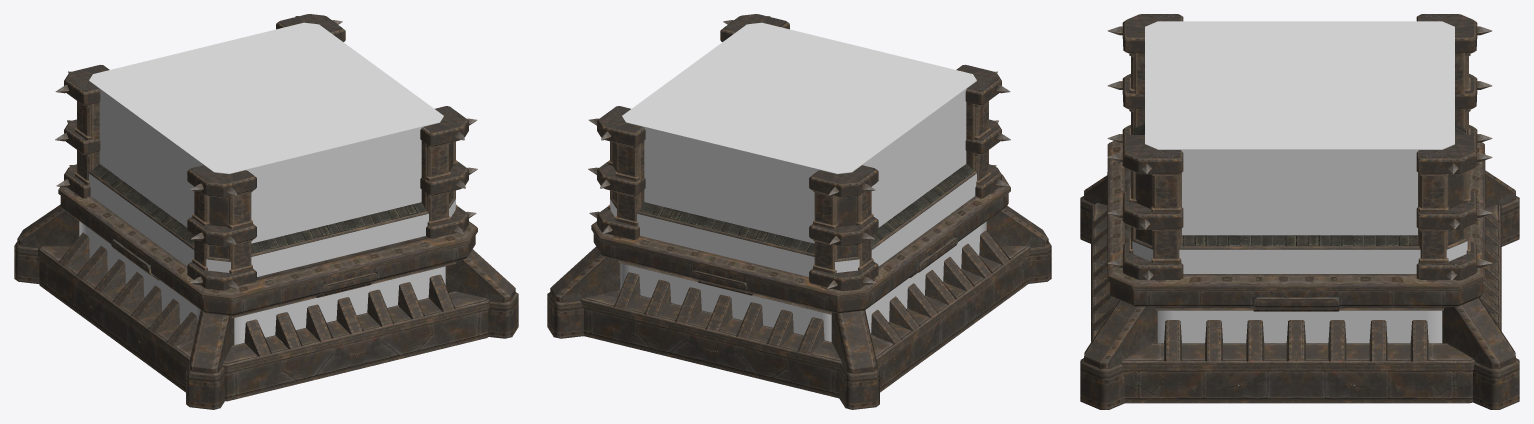
3 views of the same model, side by side, from view 1: azimuth 30°, elevation 25°; view 2: azimuth 150°, elevation 25°; view 3: azimuth 270°, elevation 25° (orthographic). The views are drawn at different scales.
Visible parts, largest first — view 1: SM_Dowdun_Tower_Base_12x12_02_LOD0; view 2: SM_Dowdun_Tower_Base_12x12_02_LOD0; view 3: SM_Dowdun_Tower_Base_12x12_02_LOD0.
Part boxes in pixels (x1,y1,x2,y2): SM_Dowdun_Tower_Base_12x12_02_LOD0: (14,14,518,409); SM_Dowdun_Tower_Base_12x12_02_LOD0: (547,14,1051,409); SM_Dowdun_Tower_Base_12x12_02_LOD0: (1080,14,1519,409).
Bounding box in the file's own units: 17.15 × 10.2 × 17.43.
4 materials, 3 textured.
